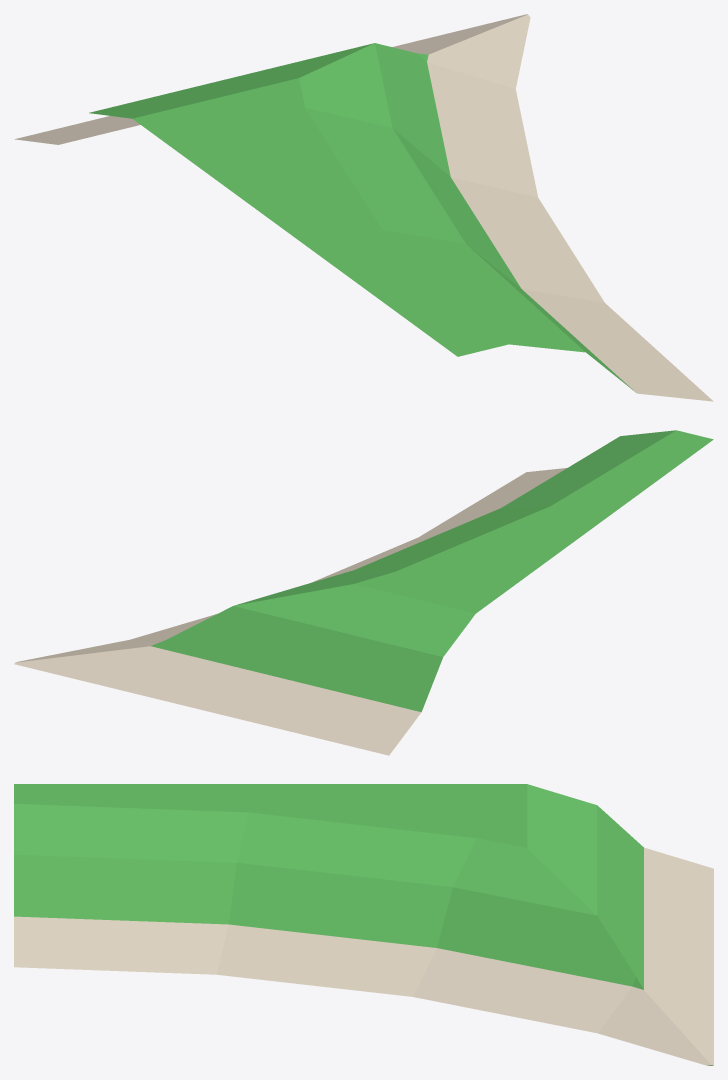
File: Hilly_Terrain_Path_Corner_Y_3x3.glb
3 renders of one model, top to bottom at view 1: azimuth 30°, elevation 25°; view 2: azimuth 150°, elevation 25°; view 3: azimuth 270°, elevation 25°, orthographic. The views are drawn at different scales.
Visible parts, largest first — view 1: Hilly_Terrain_Path_Corner_Y_3x3; view 2: Hilly_Terrain_Path_Corner_Y_3x3; view 3: Hilly_Terrain_Path_Corner_Y_3x3.
Part boxes in pixels (x1=…): Hilly_Terrain_Path_Corner_Y_3x3: x1=15, y1=14, x2=713, y2=401; Hilly_Terrain_Path_Corner_Y_3x3: x1=14, y1=430, x2=713, y2=755; Hilly_Terrain_Path_Corner_Y_3x3: x1=14, y1=784, x2=713, y2=1065.
Bounding box in the file's own units: 1 × 0.2 × 1.5.
